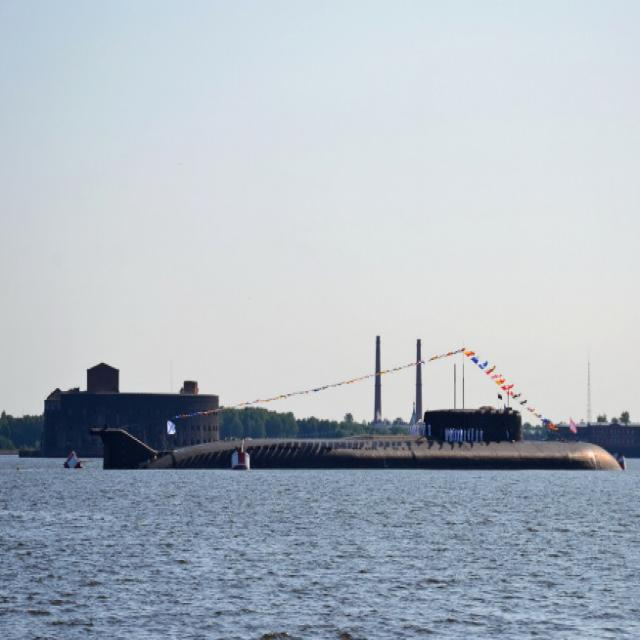submarine: (104, 410, 628, 468)
